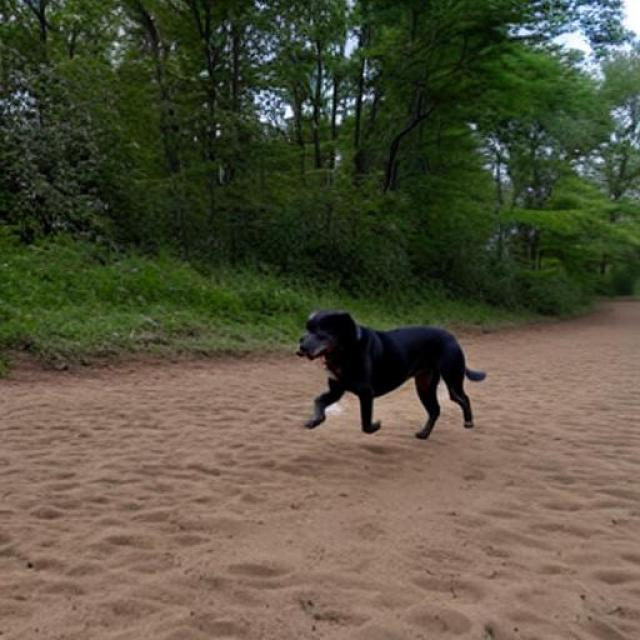Dog: (296, 309, 486, 440)
